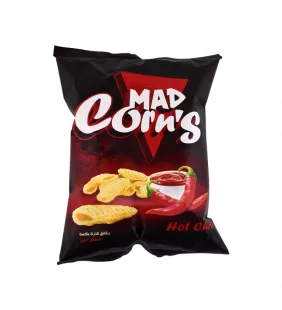MAD: (46, 43, 236, 275)
